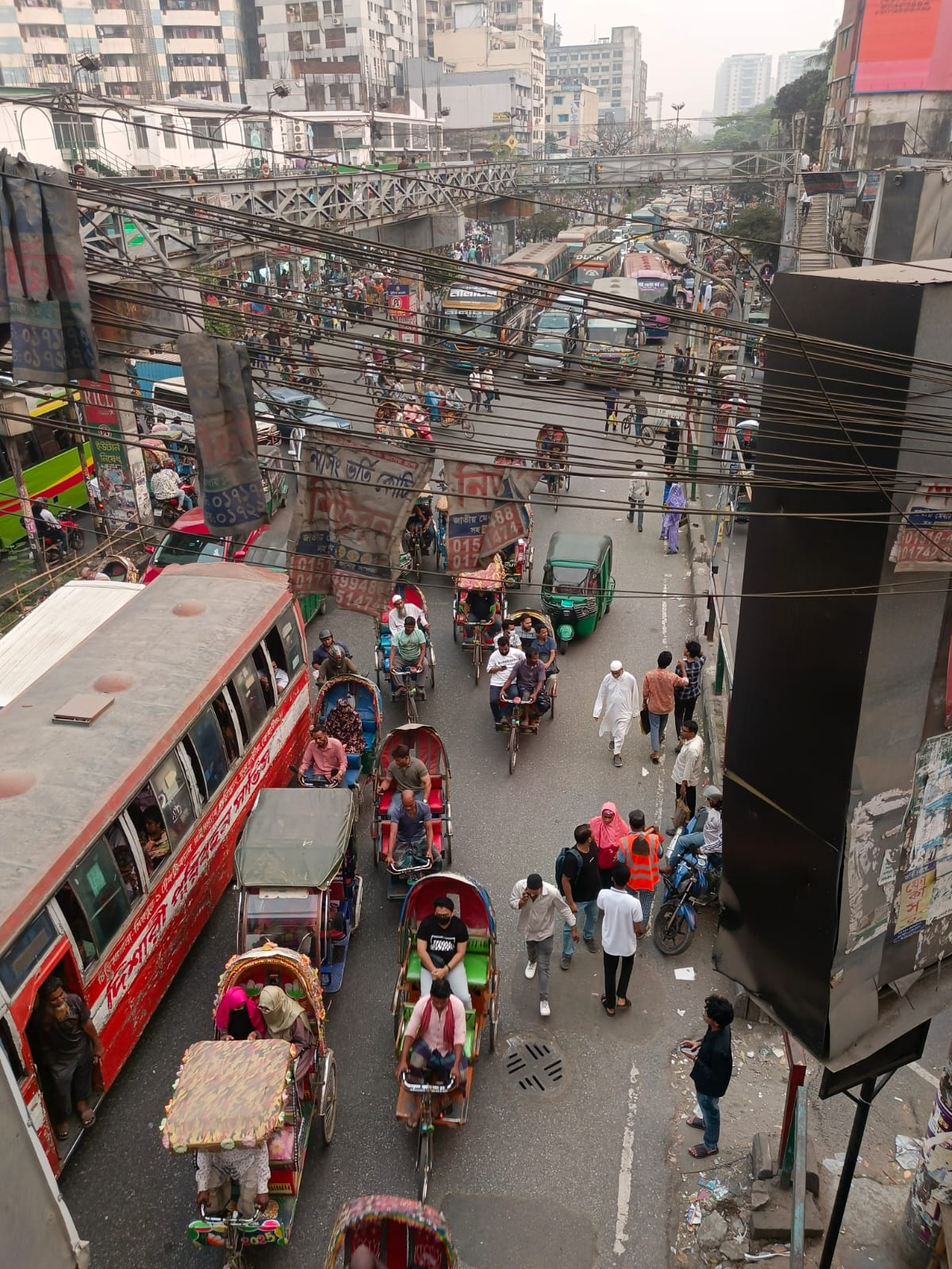auto-ricksaw: (172, 954, 342, 1244), (387, 870, 505, 1208), (236, 775, 367, 969)
cng: (535, 522, 623, 649)
